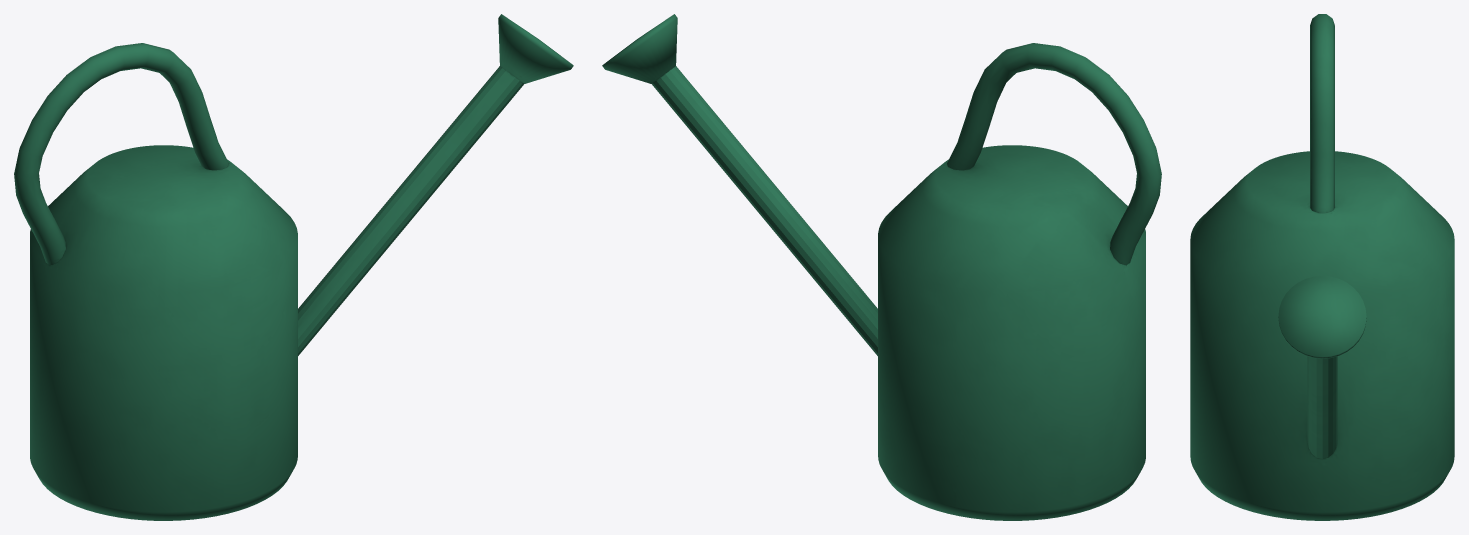
The model's file is plastic-teal.glb.
The picture shows the model from 3 angles, left to right: view 1: azimuth 30°, elevation 25°; view 2: azimuth 150°, elevation 25°; view 3: azimuth 270°, elevation 25°; orthographic projection.
Visible parts, largest first — view 1: plastic_primary; view 2: plastic_primary; view 3: plastic_primary.
Boxes of the visible parts, box(x1,y1,x2,y2) form: plastic_primary: box(14, 14, 573, 520); plastic_primary: box(602, 14, 1161, 520); plastic_primary: box(1190, 14, 1454, 520).
Bounding box in the file's own units: 0.4974 × 0.3718 × 0.21.
1 material, 1 textured.
